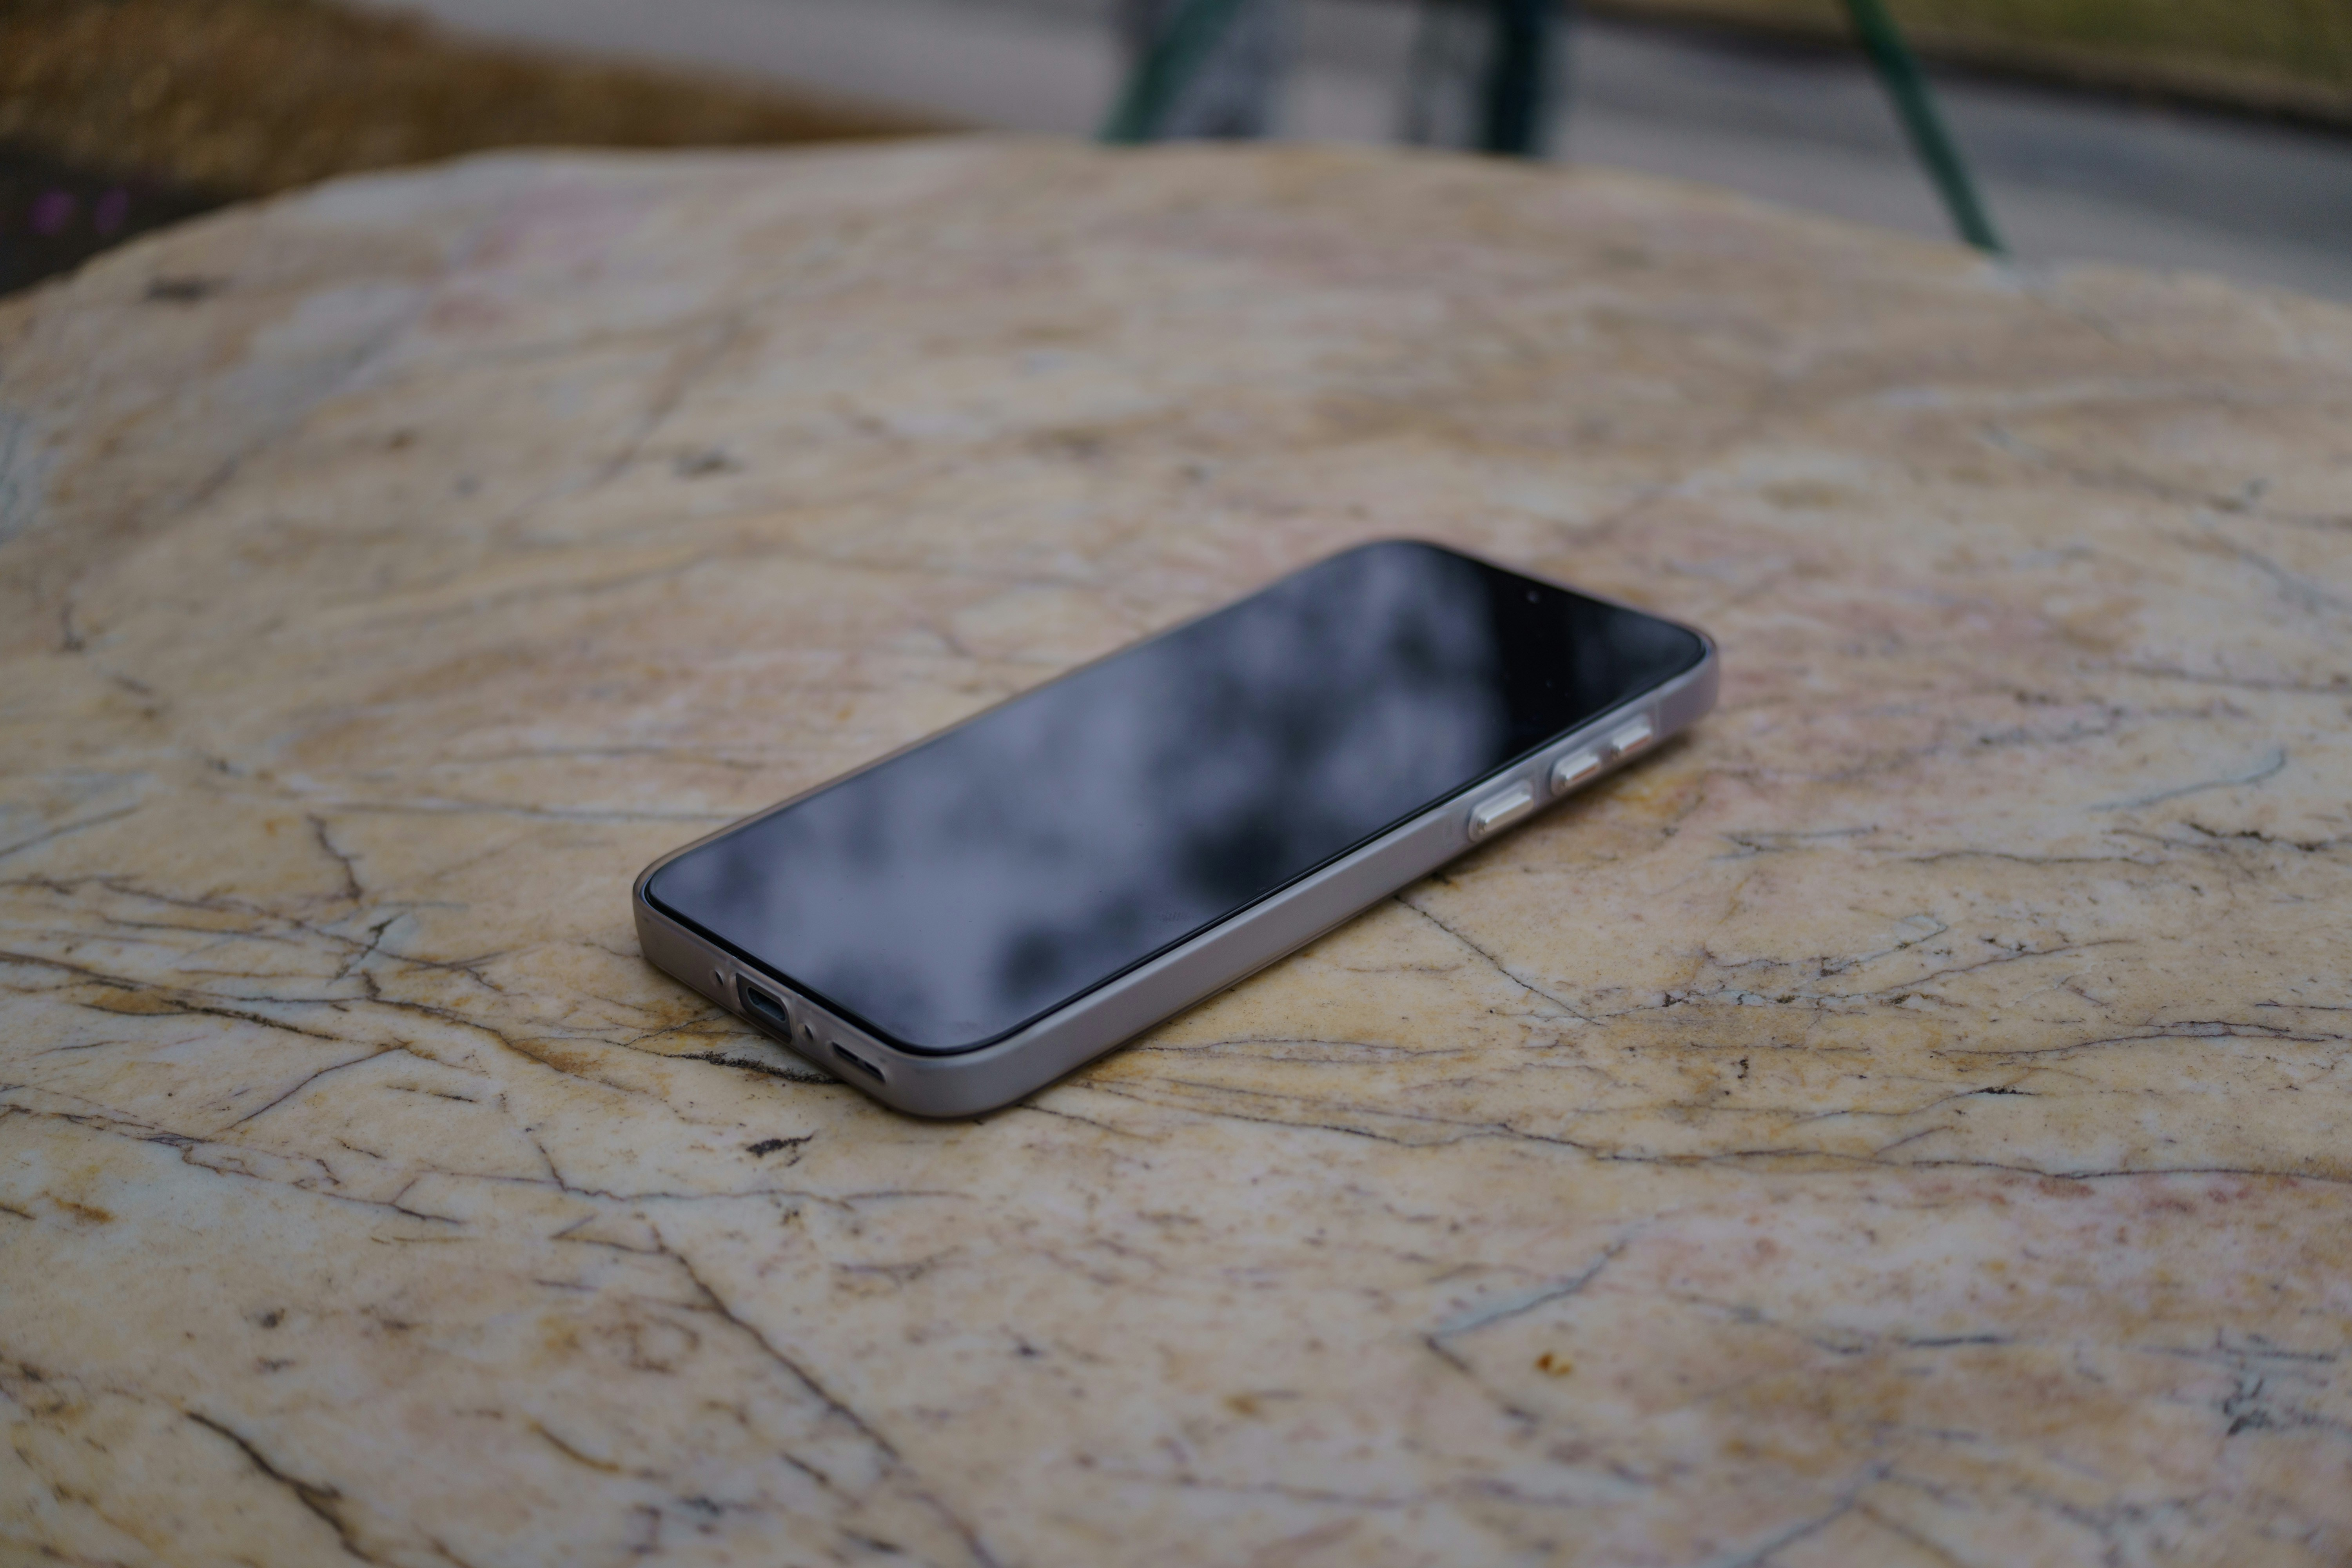p6: (593, 516, 1825, 1129)
